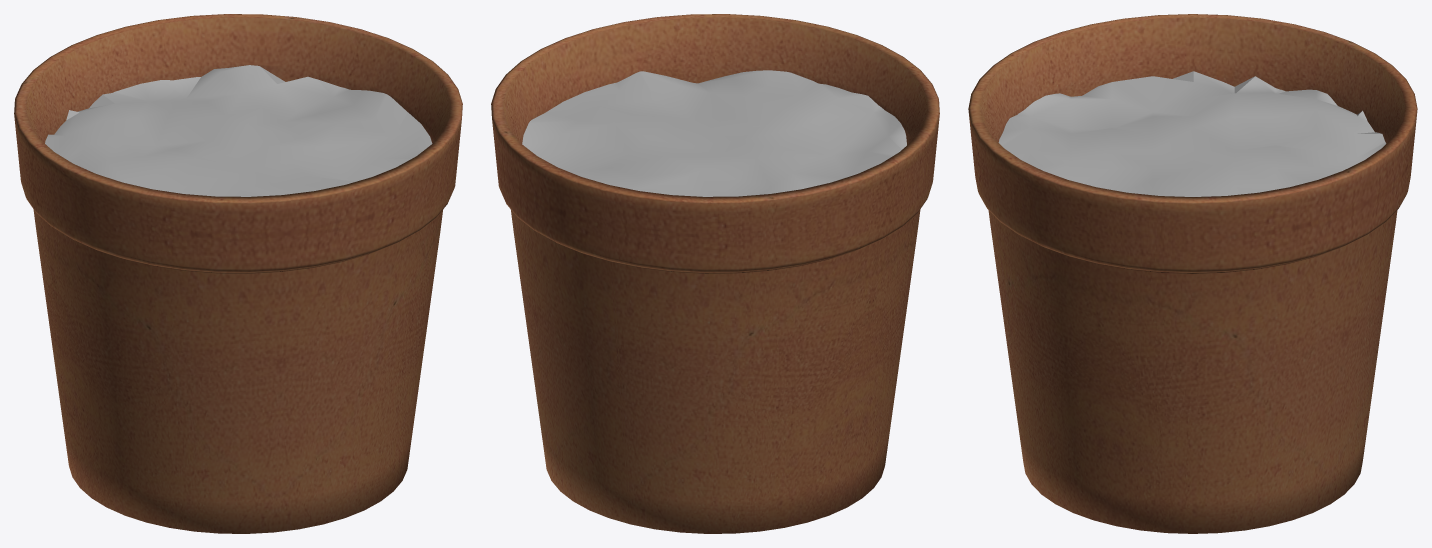
Rendered from Pot_round.fbx.
3 renders of one model, left to right at view 1: azimuth 30°, elevation 25°; view 2: azimuth 150°, elevation 25°; view 3: azimuth 270°, elevation 25°, orthographic.
Visible parts, largest first — view 1: pasted__pPlane1; view 2: pasted__pPlane1; view 3: pasted__pPlane1.
Boxes of the visible parts, x1,y1,x2,y2 form: pasted__pPlane1: (14, 14, 462, 533); pasted__pPlane1: (491, 14, 939, 533); pasted__pPlane1: (968, 14, 1417, 533).
Bounding box in the file's own units: 34.5 × 30.13 × 34.5.
